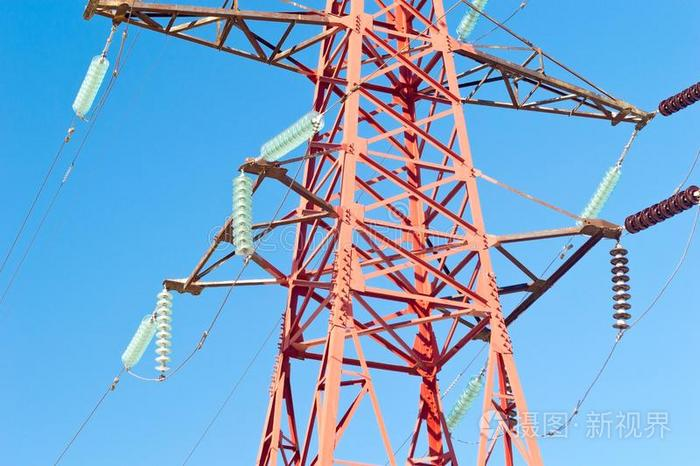insulator: (623, 185, 696, 231), (262, 109, 324, 161), (608, 246, 635, 331), (71, 53, 107, 116), (231, 175, 256, 255), (582, 169, 619, 220), (447, 375, 482, 428), (122, 314, 155, 369), (155, 291, 176, 374), (656, 82, 699, 115), (457, 1, 486, 36)
